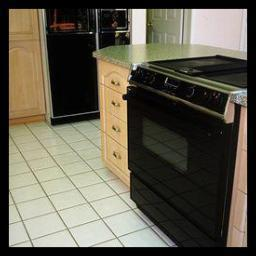Electrodomestico: (129, 81, 236, 236), (48, 10, 130, 126)
